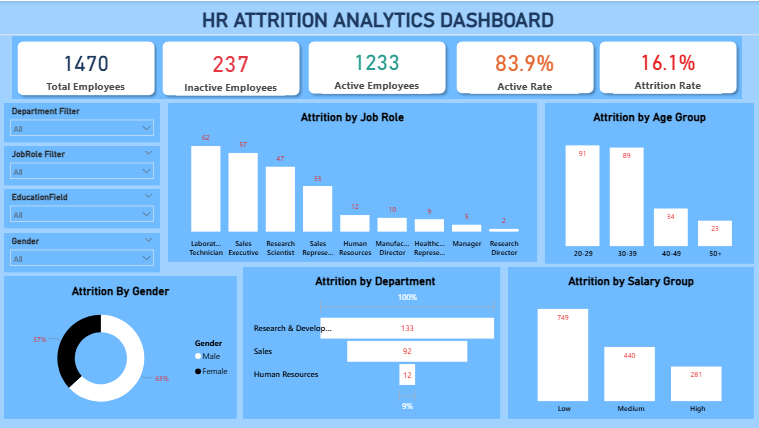

The dashboard page shown, as its layout file describes it:
{"tool":"powerbi","page":{"name":"Dashboard","canvas":[1280,720],"ordinal":0},"visuals":[{"type":"textbox","title":"HR ATTRITION ANALYTICS DASHBOARD","box":[0,0,1279.8,58.1],"z":0},{"type":"shape","box":[25.2,58.3,248.7,108.6],"z":0,"group":"g1"},{"type":"group","id":"g1","title":"Group 1","box":[25.2,58.3,248.6,105.8],"z":1000},{"type":"group","id":"g2","title":"Group 2","box":[269.6,58.3,248.6,105.8],"z":2000},{"type":"card","fields":{"Values":["emp_data.Total employees"]},"box":[57.9,67.9,183.4,89.3],"z":2000,"group":"g1"},{"type":"shape","box":[269.6,58.3,248.6,109],"z":3000,"group":"g5"},{"type":"group","id":"g3","title":"Group 3","box":[1002.8,58.8,248.6,105.8],"z":3000},{"type":"shape","box":[758.4,58.8,248.7,105.3],"z":4000,"group":"g4"},{"type":"card","fields":{"Values":["emp_data.TotalAttrition"]},"box":[302.2,68,183.3,89.7],"z":4000,"group":"g5"},{"type":"funnel","title":"Attrition by Department","fields":{"Category":["emp_data.Department"],"Y":["CountNonNull(emp_data.EmployeeNumber)"]},"box":[413.2,446.8,431.7,255.3],"z":4000},{"type":"shape","box":[1002.8,58.8,248.7,105.2],"z":5000,"group":"g3"},{"type":"card","fields":{"Values":["emp_data.Active Rate"]},"box":[791.1,68.1,183.4,86.6],"z":5000,"group":"g4"},{"type":"clusteredColumnChart","title":"Attrition by Job Role","fields":{"Category":["emp_data.JobRole"],"Y":["CountNonNull(emp_data.EmployeeNumber)"]},"box":[287.2,171.3,619.8,267.1],"z":5000},{"type":"shape","box":[514,58.8,248.6,105.8],"z":6000,"group":"g6"},{"type":"card","fields":{"Values":["emp_data.Attrition Rate"]},"box":[1035.5,68.1,183.4,86.6],"z":6000,"group":"g3"},{"type":"clusteredColumnChart","title":"Attrition by Age Group","fields":{"Category":["emp_data.Age_Group"],"Y":["CountNonNull(emp_data.EmployeeNumber)"]},"box":[920.5,171.3,351.1,270.4],"z":7000},{"type":"clusteredColumnChart","title":"Attrition by Salary Group","fields":{"Category":["emp_data.Income_Group"],"Y":["CountNonNull(emp_data.EmployeeNumber)"]},"box":[858.4,446.8,413.2,255.3],"z":8000},{"type":"card","fields":{"Values":["emp_data.active_emps"]},"box":[546.7,68.8,183.4,86.6],"z":9000,"group":"g6"},{"type":"slicer","fields":{"Values":["emp_data.Department"]},"box":[11.8,171.3,262,65.5],"z":10000},{"type":"slicer","fields":{"Values":["emp_data.JobRole"]},"box":[11.8,243.6,262,65.5],"z":11000},{"type":"slicer","fields":{"Values":["emp_data.Gender"]},"box":[11.8,389.7,262,65.5],"z":12000},{"type":"slicer","fields":{"Values":["emp_data.EducationField"]},"box":[11.8,315.8,262,65.5],"z":13000},{"type":"group","id":"g4","title":"Group 4","box":[758.4,58.8,248.6,105.8],"z":14000},{"type":"group","id":"g5","title":"Group 5","box":[269.6,58.3,248.6,105.8],"z":14001,"group":"g2"},{"type":"donutChart","title":"Attrition By Gender","fields":{"Category":["emp_data.Gender"],"Y":["Sum(emp_data.EmployeeNumber)"]},"box":[11.8,461.9,391.4,240.2],"z":15000},{"type":"group","id":"g6","title":"Group 6","box":[514,58.8,248.6,105.8],"z":15001}]}

Visuals, with their boxes in screenshot pixels (x1, y1, x2, y2), scaled from the page's 1280x720 canvas onto the 759x428 screenshot:
"HR ATTRITION ANALYTICS DASHBOARD" textbox: bbox=[0, 0, 758, 35]
shape: bbox=[15, 35, 162, 99]
"Group 1" group: bbox=[15, 35, 162, 98]
"Group 2" group: bbox=[160, 35, 307, 98]
card - emp_data.Total employees: bbox=[34, 40, 143, 93]
shape: bbox=[160, 35, 307, 99]
"Group 3" group: bbox=[595, 35, 742, 98]
shape: bbox=[450, 35, 597, 98]
card - emp_data.TotalAttrition: bbox=[179, 40, 288, 94]
"Attrition by Department" funnel: bbox=[245, 266, 501, 417]
shape: bbox=[595, 35, 742, 97]
card - emp_data.Active Rate: bbox=[469, 40, 578, 92]
"Attrition by Job Role" clusteredColumnChart: bbox=[170, 102, 538, 261]
shape: bbox=[305, 35, 452, 98]
card - emp_data.Attrition Rate: bbox=[614, 40, 723, 92]
"Attrition by Age Group" clusteredColumnChart: bbox=[546, 102, 754, 263]
"Attrition by Salary Group" clusteredColumnChart: bbox=[509, 266, 754, 417]
card - emp_data.active_emps: bbox=[324, 41, 433, 92]
slicer - emp_data.Department: bbox=[7, 102, 162, 141]
slicer - emp_data.JobRole: bbox=[7, 145, 162, 184]
slicer - emp_data.Gender: bbox=[7, 232, 162, 271]
slicer - emp_data.EducationField: bbox=[7, 188, 162, 227]
"Group 4" group: bbox=[450, 35, 597, 98]
"Group 5" group: bbox=[160, 35, 307, 98]
"Attrition By Gender" donutChart: bbox=[7, 275, 239, 417]
"Group 6" group: bbox=[305, 35, 452, 98]
